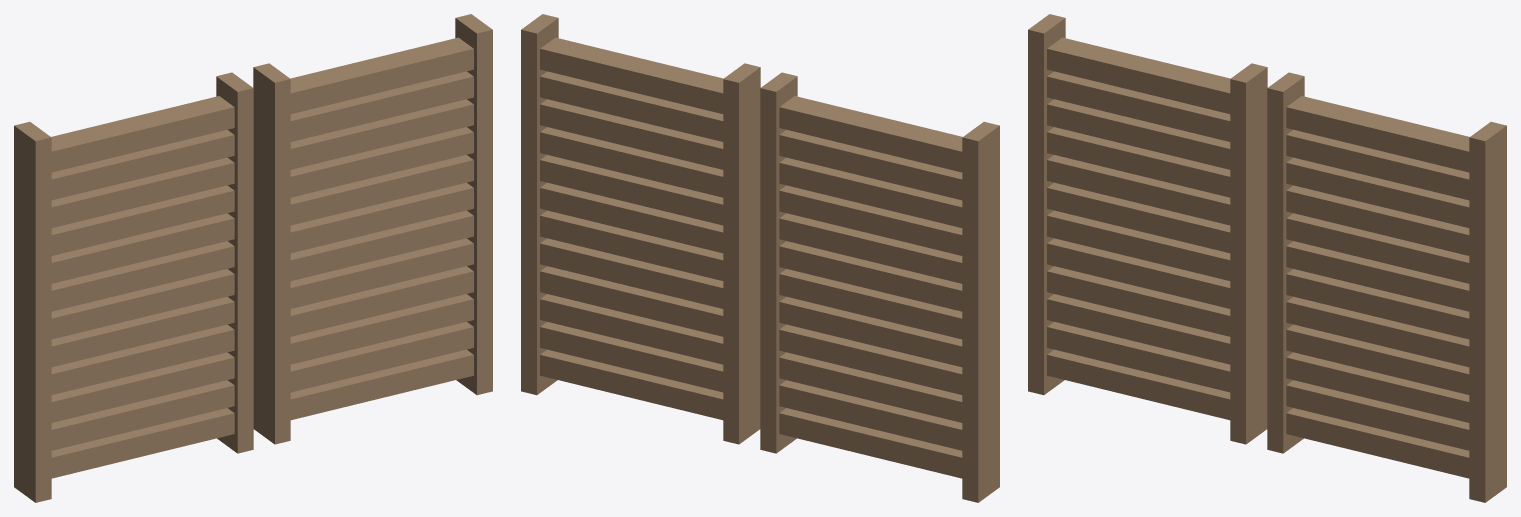
The model's file is shutters.glb.
The picture shows the model from 3 angles, left to right: view 1: azimuth 30°, elevation 25°; view 2: azimuth 150°, elevation 25°; view 3: azimuth 330°, elevation 25°; orthographic projection.
Visible parts, largest first — view 1: world; view 2: world; view 3: world.
Boxes of the visible parts, box(x1,y1,x2,y2) form: world: box(14, 14, 492, 502); world: box(521, 14, 999, 502); world: box(1028, 14, 1506, 502).
Bounding box in the file's own units: 1.72 × 1.3 × 0.14.
